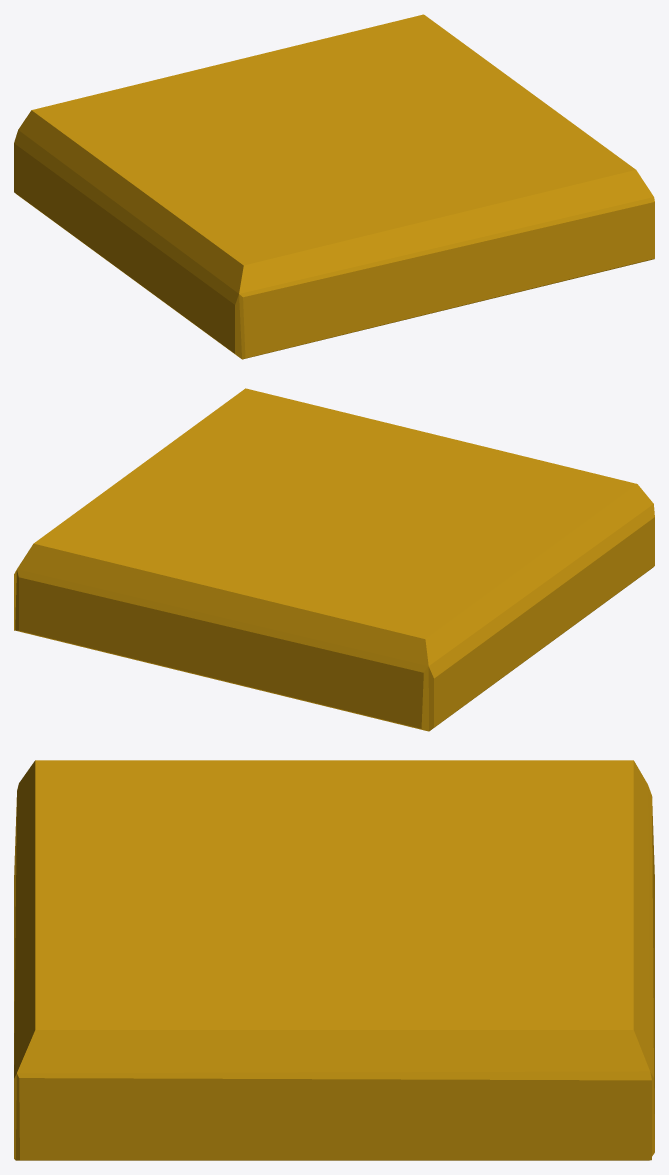
The model's file is TeleportTile.glb.
3 views of the same model, one above another, from view 1: azimuth 30°, elevation 25°; view 2: azimuth 150°, elevation 25°; view 3: azimuth 270°, elevation 25° (orthographic). The views are drawn at different scales.
Parts seen in each view (by area): view 1: Cube; view 2: Cube; view 3: Cube.
Part boxes in pixels (x1=…): Cube: x1=14, y1=14, x2=654, y2=359; Cube: x1=14, y1=388, x2=654, y2=731; Cube: x1=14, y1=760, x2=654, y2=1160.
Size of the model in its own units: 1.6 by 0.3184 by 1.51.
